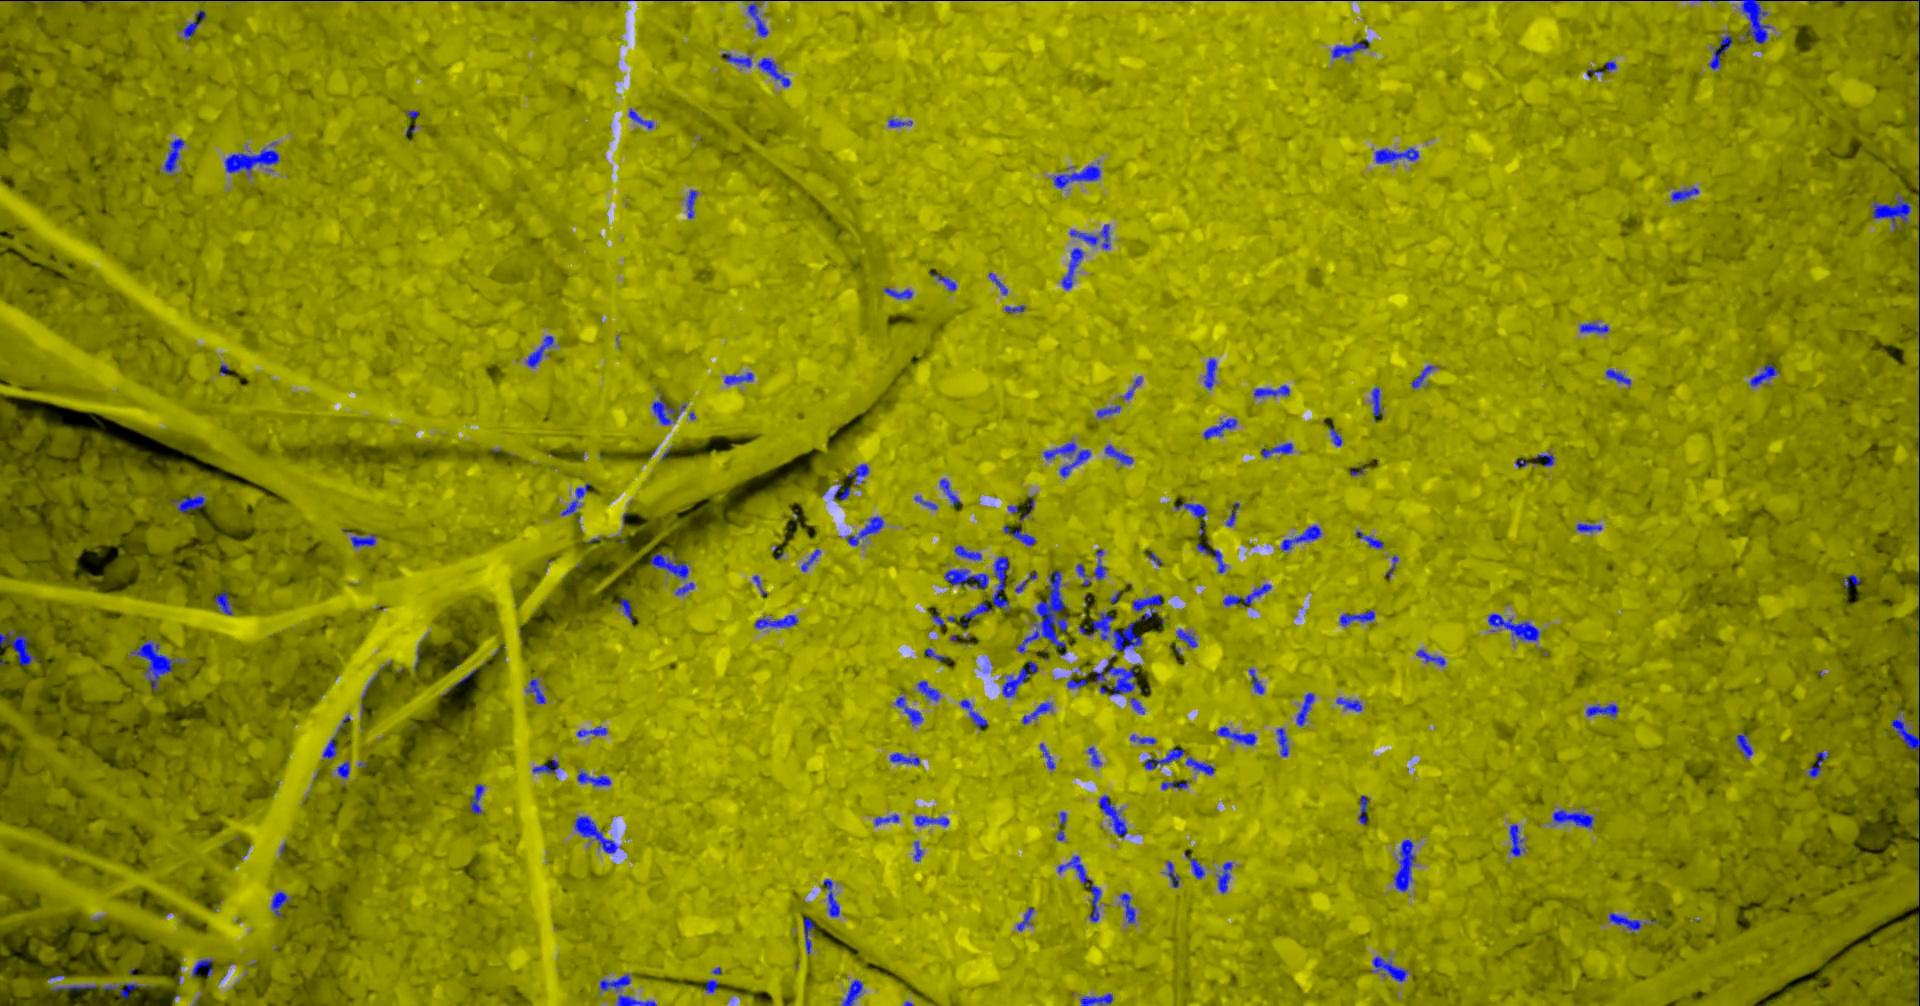ant: (1058, 855, 1102, 922), (132, 640, 183, 690), (1088, 612, 1144, 652), (1730, 0, 1773, 43), (226, 141, 281, 173), (1045, 442, 1092, 478), (577, 815, 620, 854), (1093, 661, 1138, 695), (1, 627, 41, 666), (1490, 614, 1542, 641), (1873, 192, 1912, 229), (1892, 718, 1920, 763), (1004, 661, 1039, 697), (1100, 794, 1129, 837), (847, 516, 885, 545), (1054, 165, 1102, 188), (1396, 840, 1417, 890), (653, 394, 687, 424), (1224, 583, 1272, 605), (1070, 224, 1111, 249), (649, 553, 690, 578), (1283, 525, 1322, 550), (993, 555, 1011, 611), (759, 57, 792, 86), (1063, 246, 1084, 290), (945, 568, 990, 588), (563, 481, 590, 514), (1371, 956, 1410, 981), (1197, 542, 1227, 573), (1145, 747, 1186, 768), (528, 335, 555, 367), (1215, 727, 1258, 746), (1610, 911, 1648, 932), (961, 699, 989, 728), (963, 600, 993, 626), (1133, 594, 1164, 620), (1709, 36, 1733, 69), (897, 696, 924, 724), (1554, 809, 1595, 828), (1333, 39, 1371, 58), (749, 0, 770, 36), (164, 138, 185, 171), (1751, 363, 1782, 386), (1023, 701, 1054, 724), (1205, 418, 1238, 438), (1004, 525, 1037, 545), (1377, 147, 1420, 163), (104, 983, 147, 998), (1297, 692, 1316, 727), (171, 495, 207, 513), (1341, 608, 1377, 626), (824, 878, 841, 916), (941, 478, 963, 506), (756, 614, 799, 627), (930, 271, 957, 291), (1186, 850, 1206, 878), (1413, 365, 1437, 387), (1175, 500, 1208, 517), (579, 770, 612, 786), (1810, 751, 1830, 777), (1106, 445, 1134, 464), (1218, 861, 1234, 893), (1187, 757, 1217, 775), (630, 108, 655, 128), (843, 979, 863, 1005), (215, 587, 234, 614), (1417, 649, 1448, 666), (1587, 702, 1620, 718), (1357, 530, 1385, 547), (919, 680, 942, 701), (1262, 442, 1294, 457), (1511, 824, 1526, 856), (1121, 892, 1137, 923), (804, 916, 817, 954), (601, 974, 632, 989), (1255, 384, 1291, 396), (1016, 570, 1037, 592), (723, 52, 753, 67), (349, 531, 377, 547), (803, 547, 822, 572), (1095, 547, 1109, 579), (471, 782, 485, 814), (273, 890, 290, 917), (850, 464, 870, 485), (528, 680, 547, 702), (933, 608, 957, 626), (1737, 733, 1754, 758), (1081, 992, 1114, 1005), (990, 272, 1010, 293), (193, 958, 215, 977), (956, 545, 983, 560), (618, 995, 658, 1005), (1608, 368, 1632, 385), (1672, 187, 1700, 201), (621, 597, 636, 622), (1250, 668, 1265, 694), (1041, 743, 1057, 768), (1177, 629, 1199, 647), (1018, 907, 1035, 930), (926, 647, 952, 661), (1337, 697, 1364, 711), (1205, 358, 1218, 387), (1277, 727, 1290, 756), (535, 760, 560, 774), (725, 372, 756, 384), (916, 815, 950, 826), (1168, 860, 1181, 887), (1227, 502, 1241, 526), (885, 287, 914, 298), (1581, 321, 1610, 333), (891, 752, 921, 763), (916, 495, 938, 509), (324, 735, 338, 758), (51, 984, 98, 991), (688, 189, 698, 218), (1058, 810, 1068, 840), (1078, 563, 1091, 586), (1090, 746, 1103, 766), (578, 727, 610, 735), (1098, 405, 1123, 417), (876, 814, 900, 826), (1844, 574, 1865, 587), (1373, 386, 1382, 417), (1162, 779, 1189, 789), (1330, 427, 1343, 446), (1360, 795, 1369, 824), (185, 22, 201, 38), (1537, 453, 1556, 466), (677, 582, 696, 594), (1131, 734, 1157, 743), (338, 761, 350, 779), (1578, 523, 1603, 532), (836, 486, 851, 500), (1131, 697, 1145, 713), (1068, 678, 1088, 688), (890, 118, 913, 127), (916, 840, 924, 861), (707, 979, 720, 992), (1006, 305, 1026, 312)
